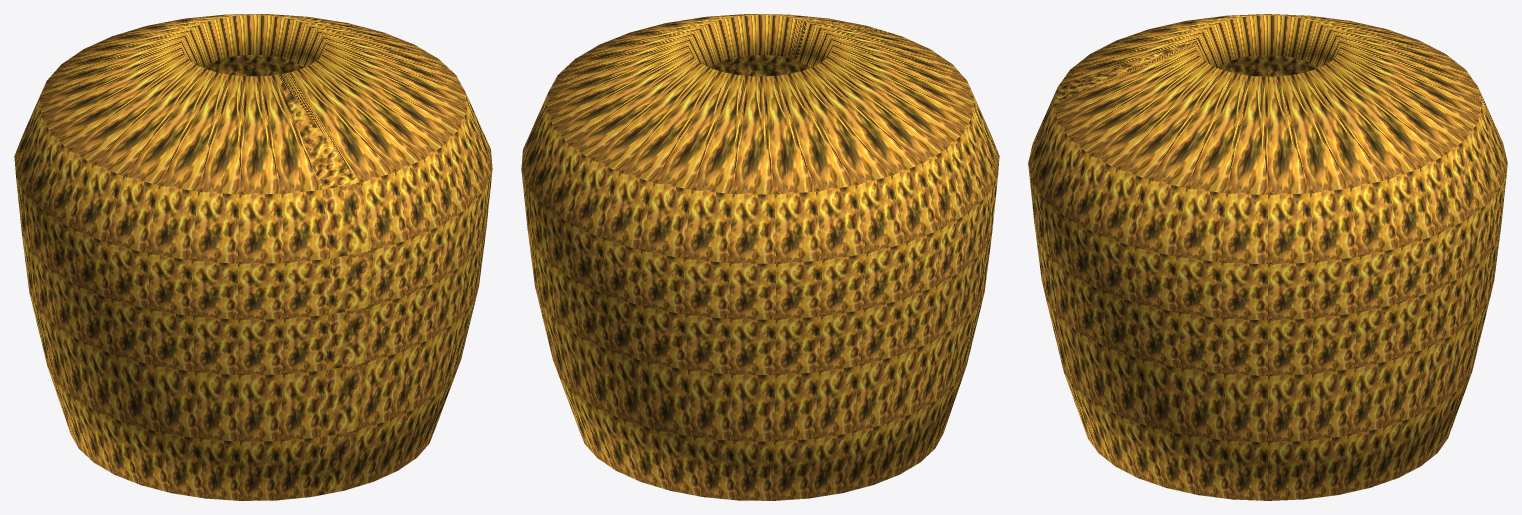
File: Sponge_1.fbx
The picture shows the model from 3 angles, left to right: view 1: azimuth 30°, elevation 25°; view 2: azimuth 150°, elevation 25°; view 3: azimuth 270°, elevation 25°; orthographic projection.
Parts seen in each view (by area): view 1: Cylinder; view 2: Cylinder; view 3: Cylinder.
Part boxes in pixels (bbox=[...]): Cylinder: bbox=[14, 14, 492, 500]; Cylinder: bbox=[521, 14, 999, 500]; Cylinder: bbox=[1028, 14, 1507, 500].
Bounding box in the file's own units: 53 × 50 × 53.
Materials: 1 (1 with a texture image).
